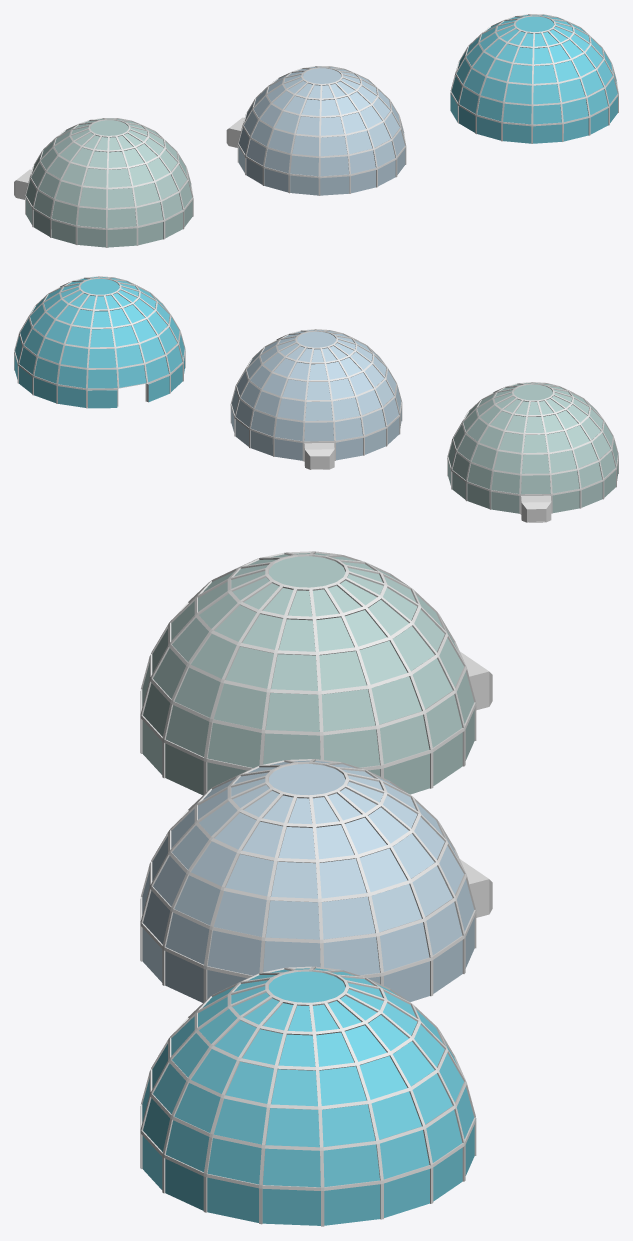
File: dome 1.fbx
3 renders of one model, top to bottom at view 1: azimuth 30°, elevation 25°; view 2: azimuth 150°, elevation 25°; view 3: azimuth 270°, elevation 25°, orthographic. The views are drawn at different scales.
Visible parts, largest first — view 1: Sphere.004, Sphere.005, Sphere.003; view 2: Sphere.004, Sphere.005, Sphere.003; view 3: Sphere.003, Sphere.005, Sphere.004.
Boxes of the visible parts, x1=… form: Sphere.004: x1=226, y1=66, x2=406, y2=195; Sphere.005: x1=14, y1=118, x2=193, y2=247; Sphere.003: x1=450, y1=14, x2=618, y2=143; Sphere.004: x1=230, y1=329, x2=402, y2=469; Sphere.005: x1=447, y1=382, x2=618, y2=522; Sphere.003: x1=14, y1=276, x2=185, y2=408; Sphere.003: x1=140, y1=966, x2=476, y2=1226; Sphere.005: x1=140, y1=551, x2=492, y2=795; Sphere.004: x1=140, y1=759, x2=492, y2=1002.
Bounding box in the file's own units: 780 × 110 × 208.
